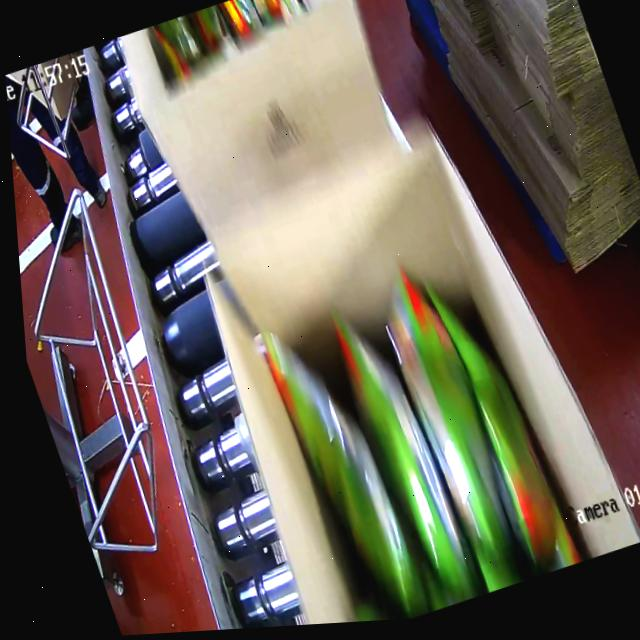YOGURT_HERB: (240, 235, 595, 627)
